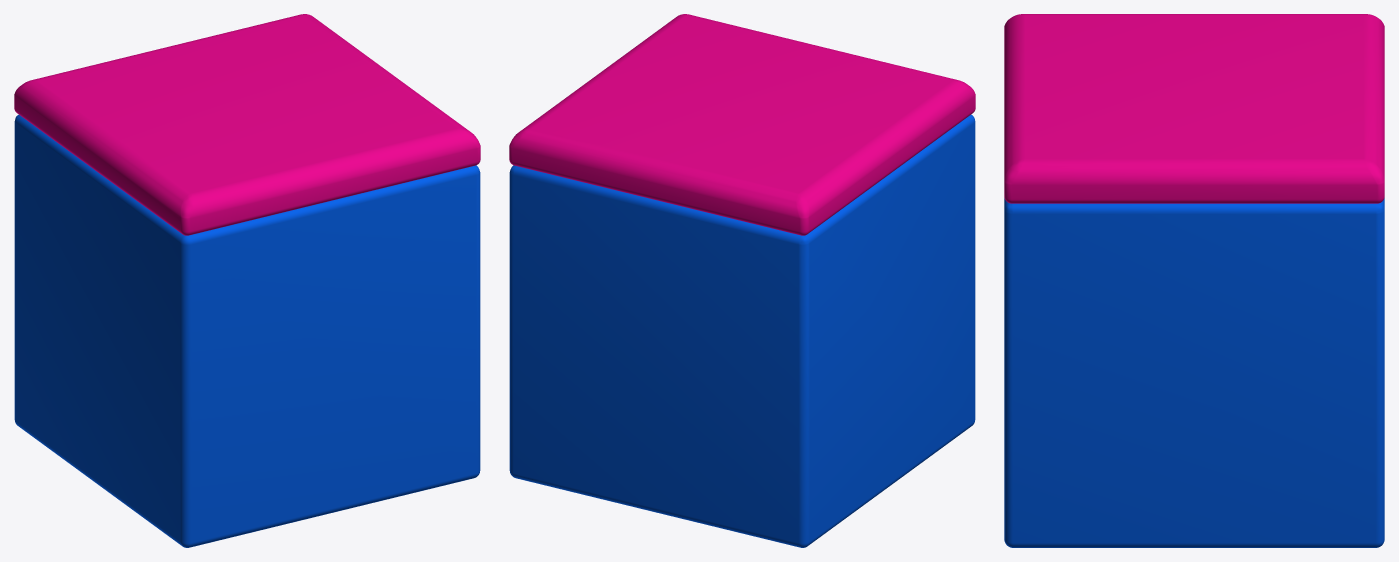
Rendered from jumpbox.fbx.
The picture shows the model from 3 angles, left to right: view 1: azimuth 30°, elevation 25°; view 2: azimuth 150°, elevation 25°; view 3: azimuth 270°, elevation 25°; orthographic projection. The views are drawn at different scales.
Visible parts, largest first — view 1: Cube, Cube.001; view 2: Cube, Cube.001; view 3: Cube, Cube.001.
Boxes of the visible parts, x1,y1,x2,y2 form: Cube: (14, 114, 480, 547); Cube.001: (14, 14, 480, 235); Cube: (509, 114, 975, 547); Cube.001: (509, 14, 975, 235); Cube: (1004, 198, 1384, 547); Cube.001: (1004, 14, 1384, 203).
Size of the model in its own units: 200 by 222 by 200.
